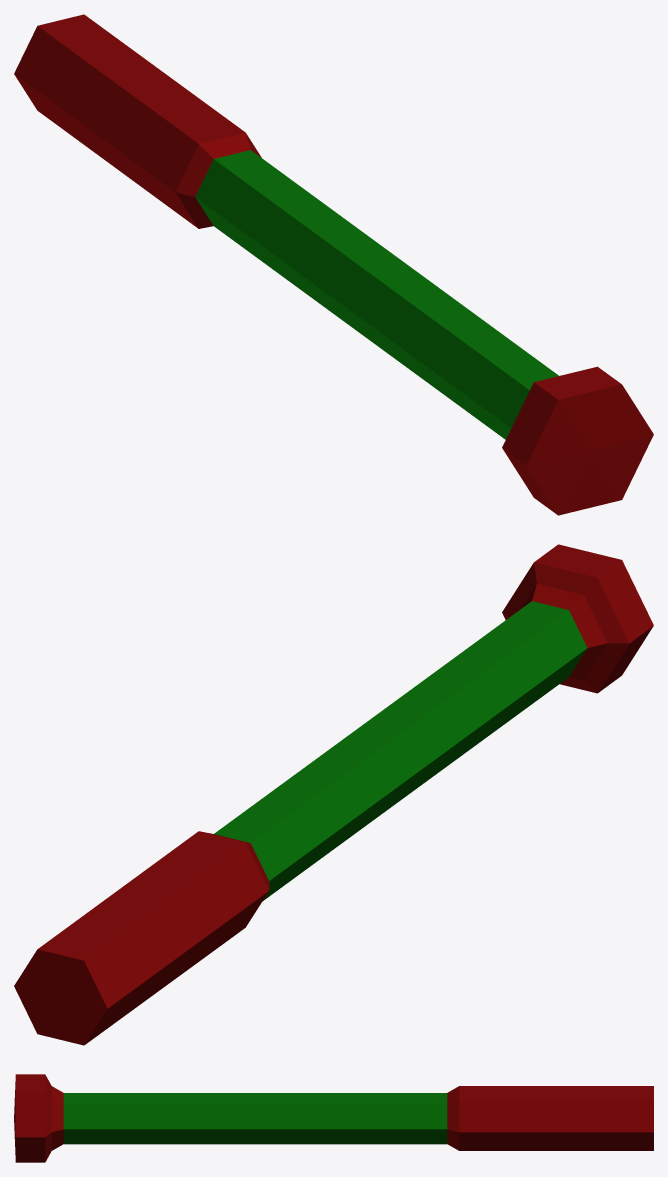
The model's file is LightLaser.fbx.
3 views of the same model, one above another, from view 1: azimuth 30°, elevation 25°; view 2: azimuth 150°, elevation 25°; view 3: azimuth 270°, elevation 25° (orthographic). The views are drawn at different scales.
Visible parts, largest first — view 1: LightLaser; view 2: LightLaser; view 3: LightLaser.
Part boxes in pixels (<box>): LightLaser: <box>14,14,653,515</box>; LightLaser: <box>14,544,653,1045</box>; LightLaser: <box>14,1074,653,1162</box>.
Bounding box in the file's own units: 0.0717 × 0.0622 × 0.5172.
